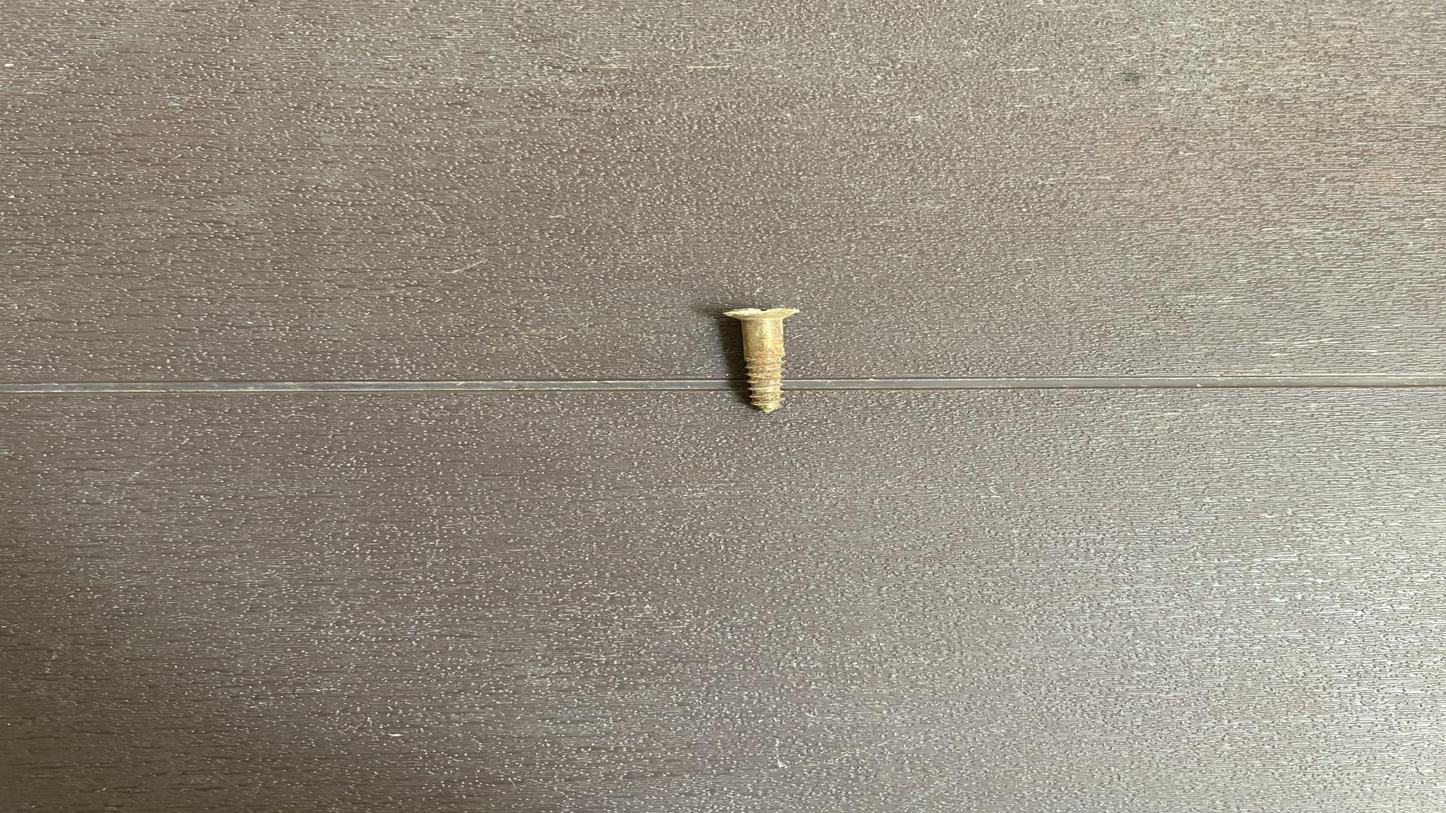screw: (708, 308, 846, 417)
